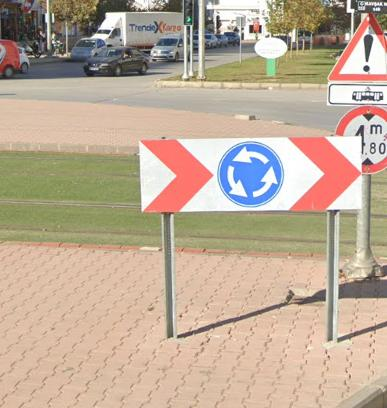crossroads: (220, 141, 284, 208)
